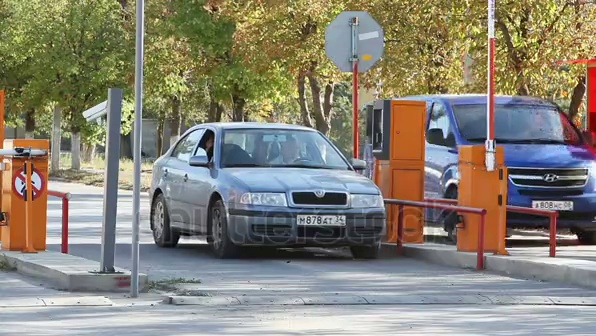licenseplate: (299, 212, 350, 227), (534, 197, 579, 207)
